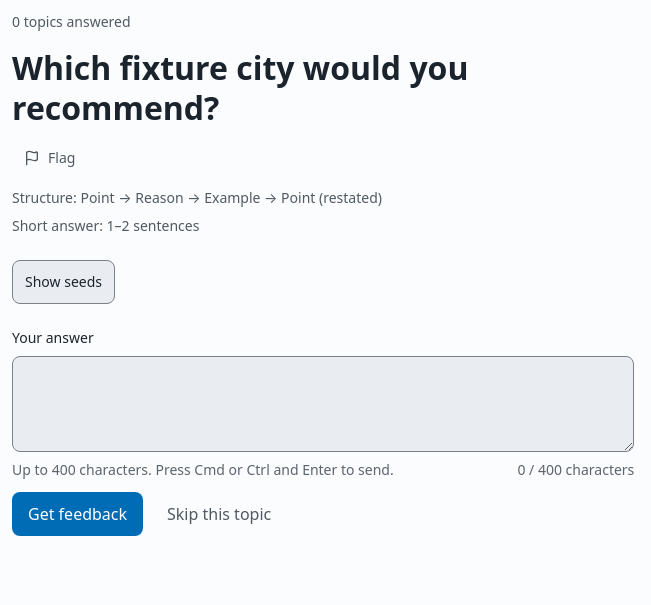
Scenario: the drill page's client leaf › returns to writing with the answer intact and no error when the reader cancels
Type "I recommend Kyoto because its old temples are beautiful." into the text box labelled "Your answer" at x=323, y=404, box [12,356,634,452]
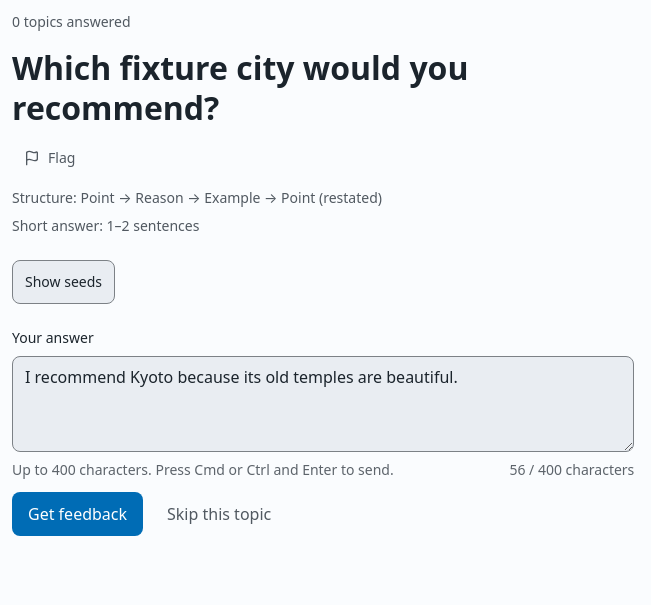
Click the button "Get feedback" at x=78, y=514, box [12,492,143,536]
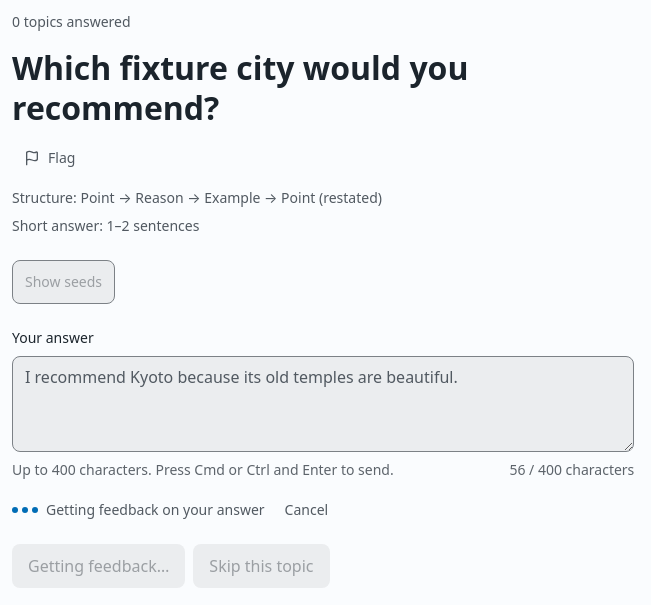
Click the button "Cancel" at x=306, y=510, box [273,488,340,532]
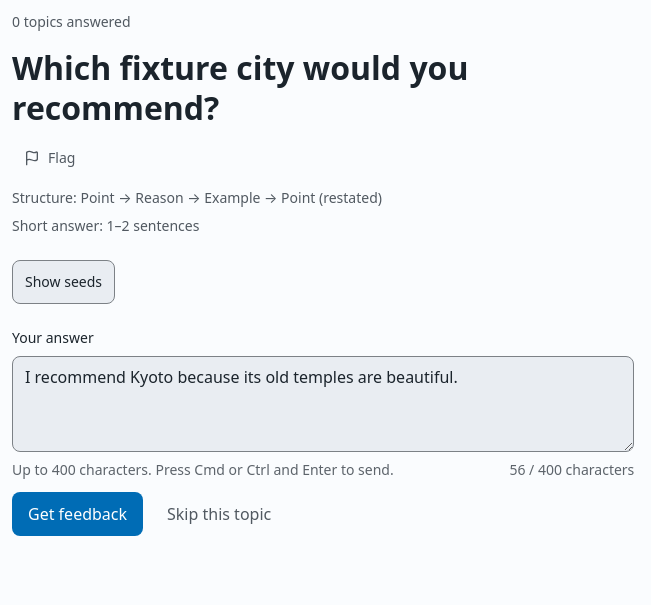
Now the message "Getting feedback on your answer" is gone
Now the button "Cancel" is gone
Now the button "Get feedback" is enabled, box [12,492,143,536]
